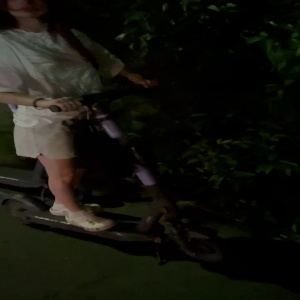human on a scooter: (1, 1, 230, 267)
